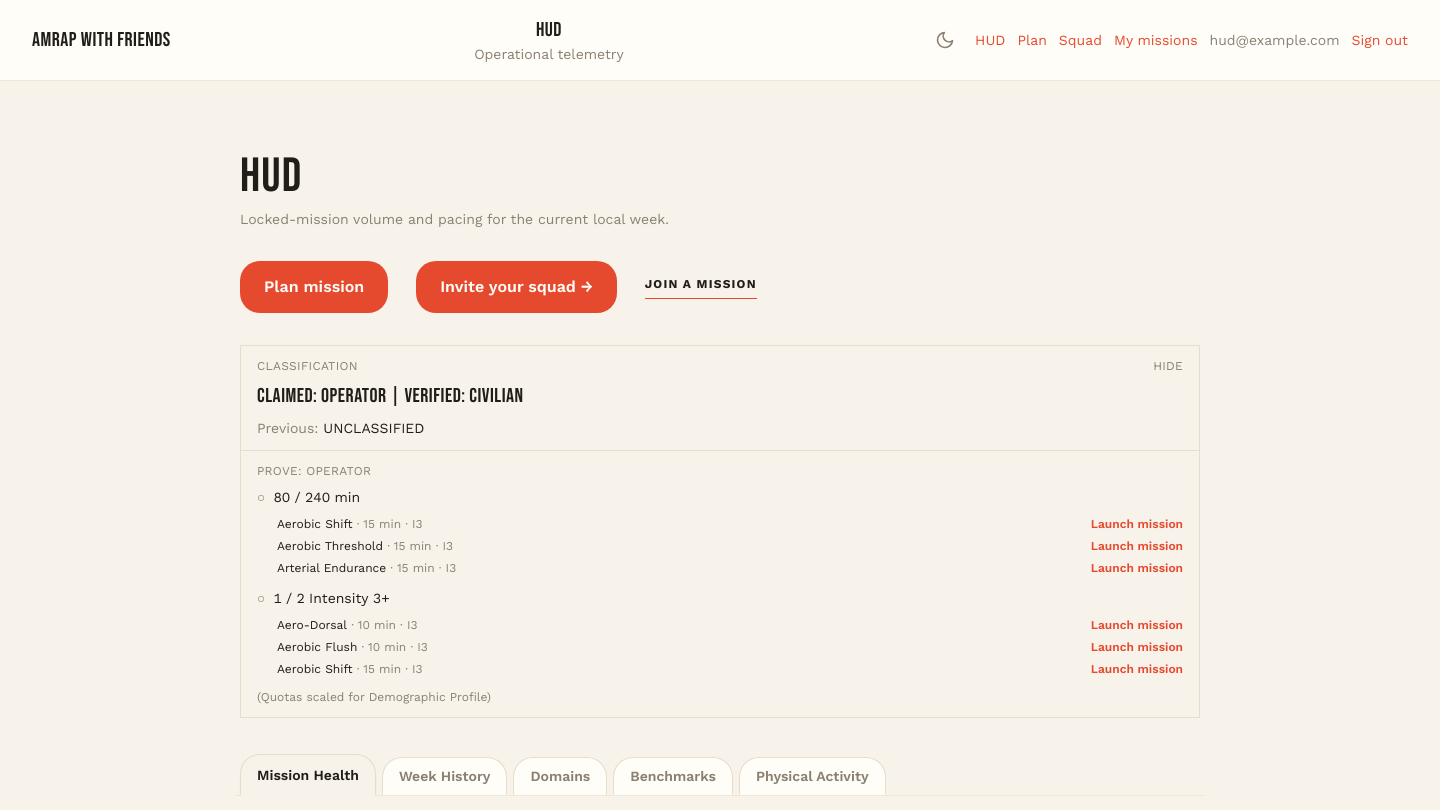
Test: HUDPage tabs › switches tabs and clears the selected week detail when leaving history
The width and height of the screenshot is (1440, 810).
Click the tab "Week History": (445, 776) [382,757,508,795]
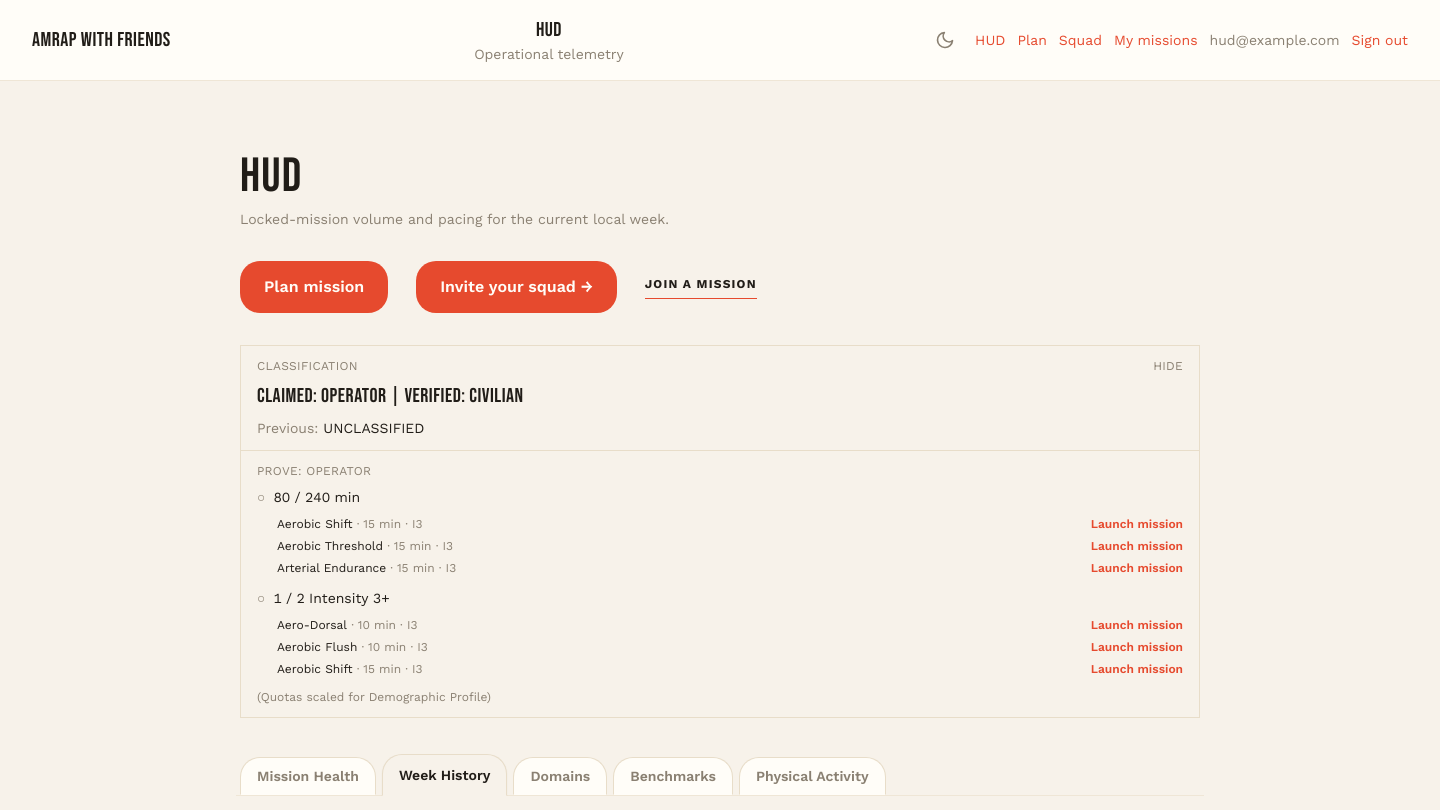
Click the tab "Domains": (560, 776) [514,757,607,795]
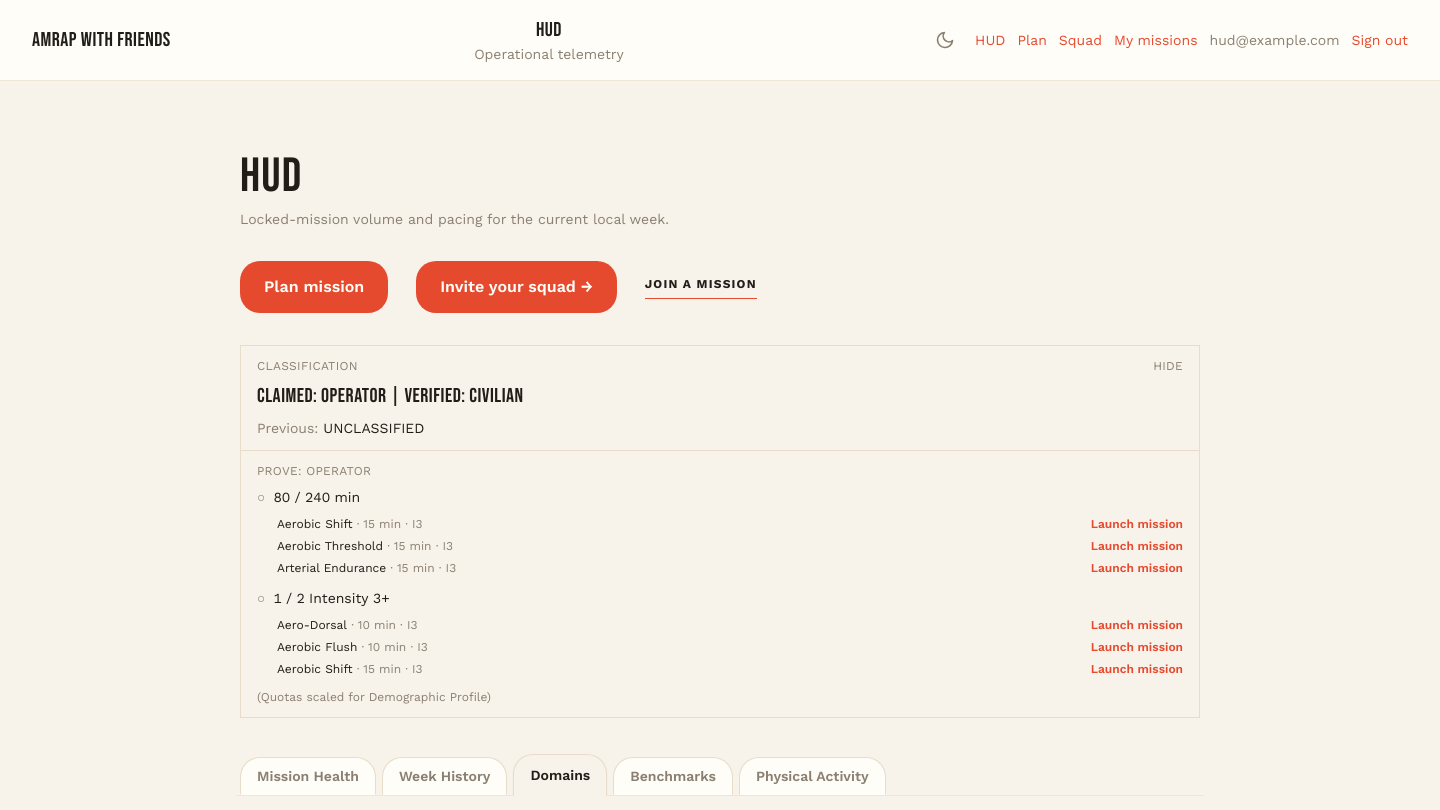
Click the tab "Week History": (445, 776) [382,757,508,795]
(page scrolled)
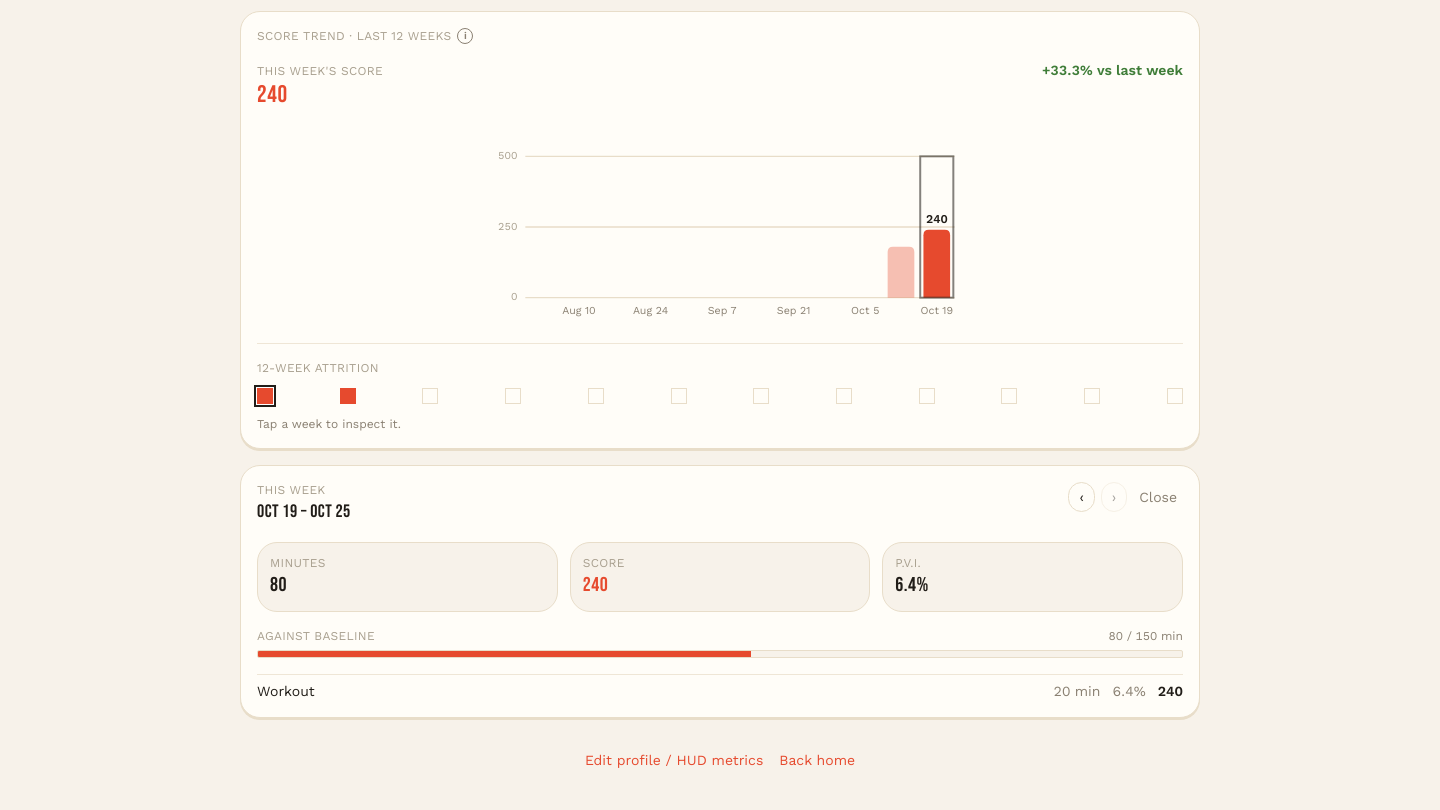
Expected: the element named "Week detail" is shown, [240,465,1200,718]
